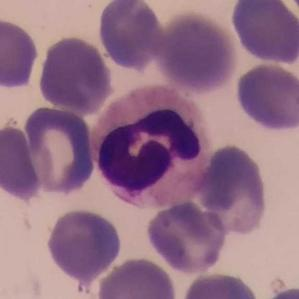Neutrophil: (88, 81, 216, 216)
RBC: (20, 102, 98, 198), (154, 9, 240, 94), (196, 142, 270, 238), (143, 198, 228, 275), (36, 33, 114, 115), (44, 206, 125, 281), (232, 60, 299, 134), (95, 0, 163, 71), (228, 0, 299, 65), (94, 254, 179, 299), (0, 123, 46, 201), (0, 15, 41, 91), (179, 269, 262, 299), (258, 283, 299, 299)
